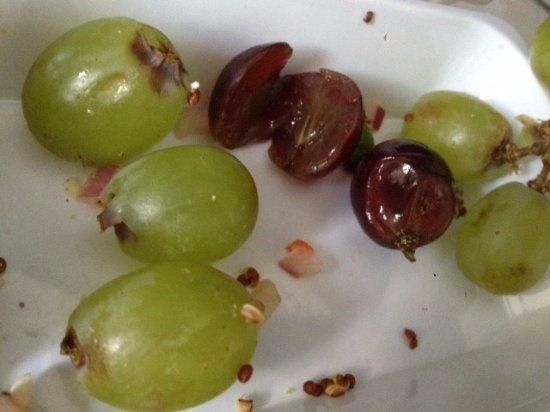Grape Rotten: (18, 14, 550, 412)
